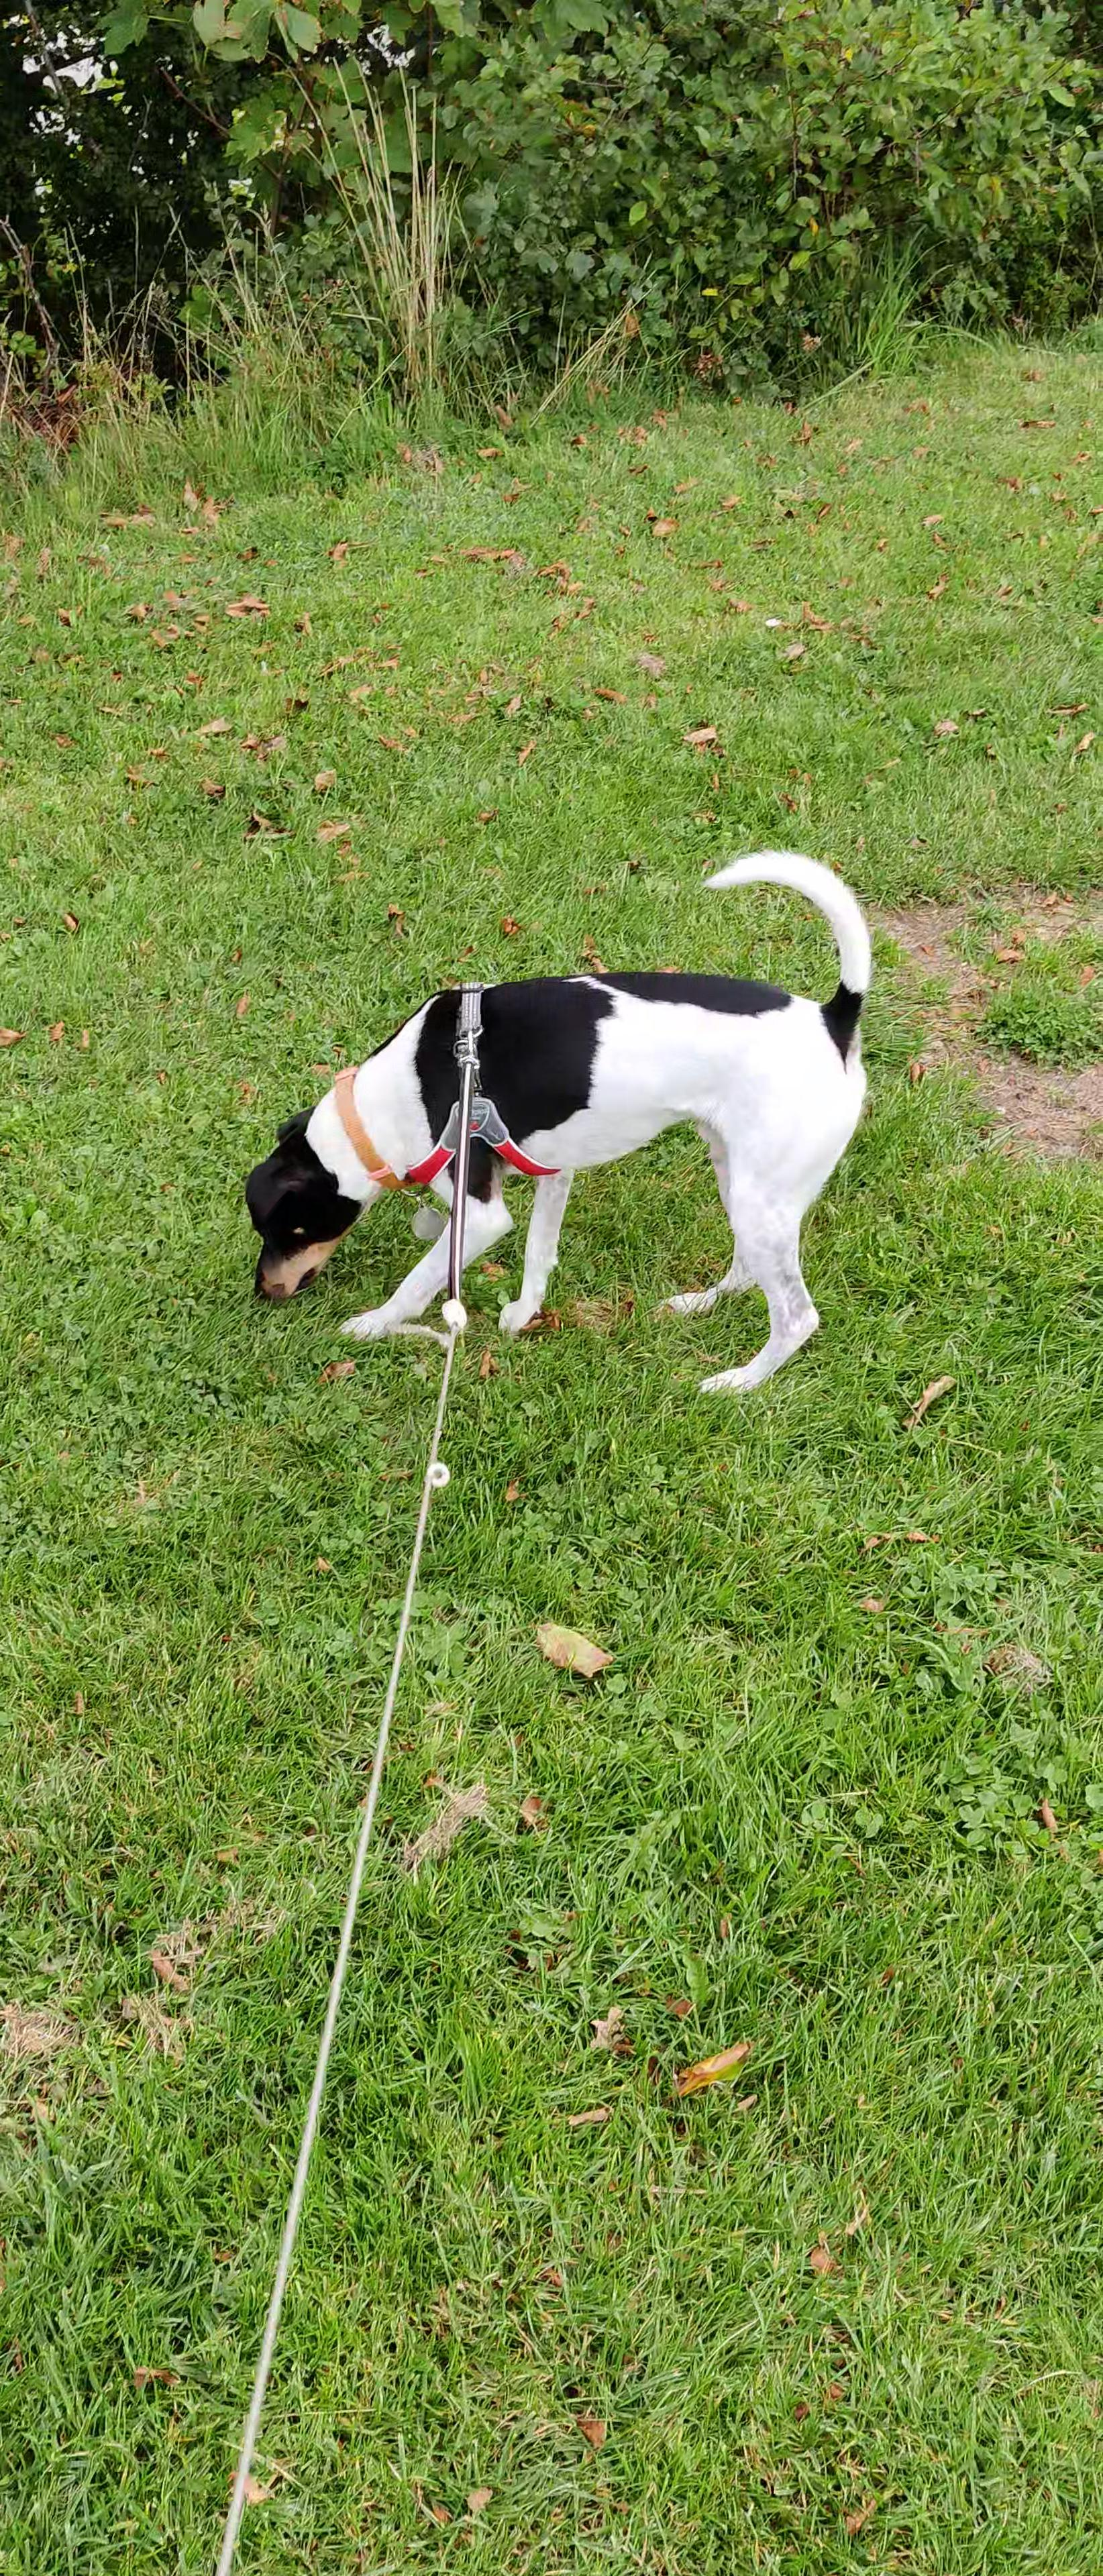Dog: (237, 844, 876, 1400)
